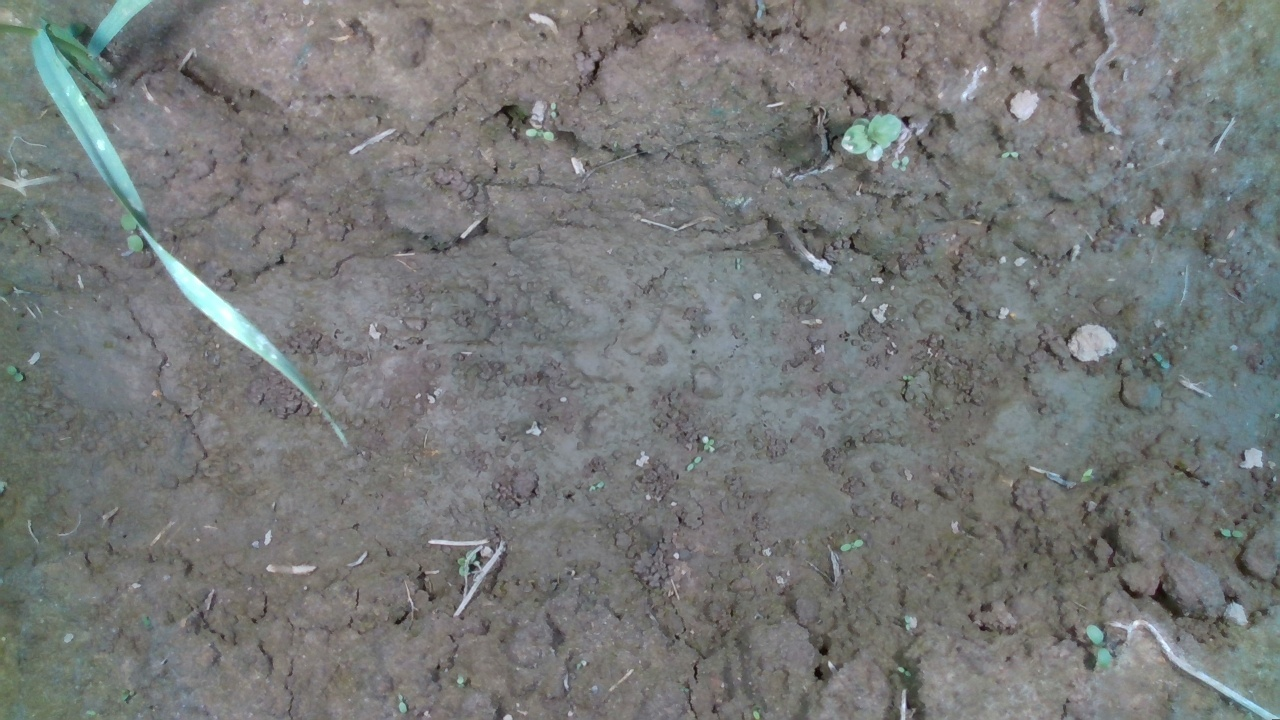weed: (679, 452, 727, 483), (837, 534, 871, 553), (1216, 522, 1250, 541), (583, 476, 610, 495)
